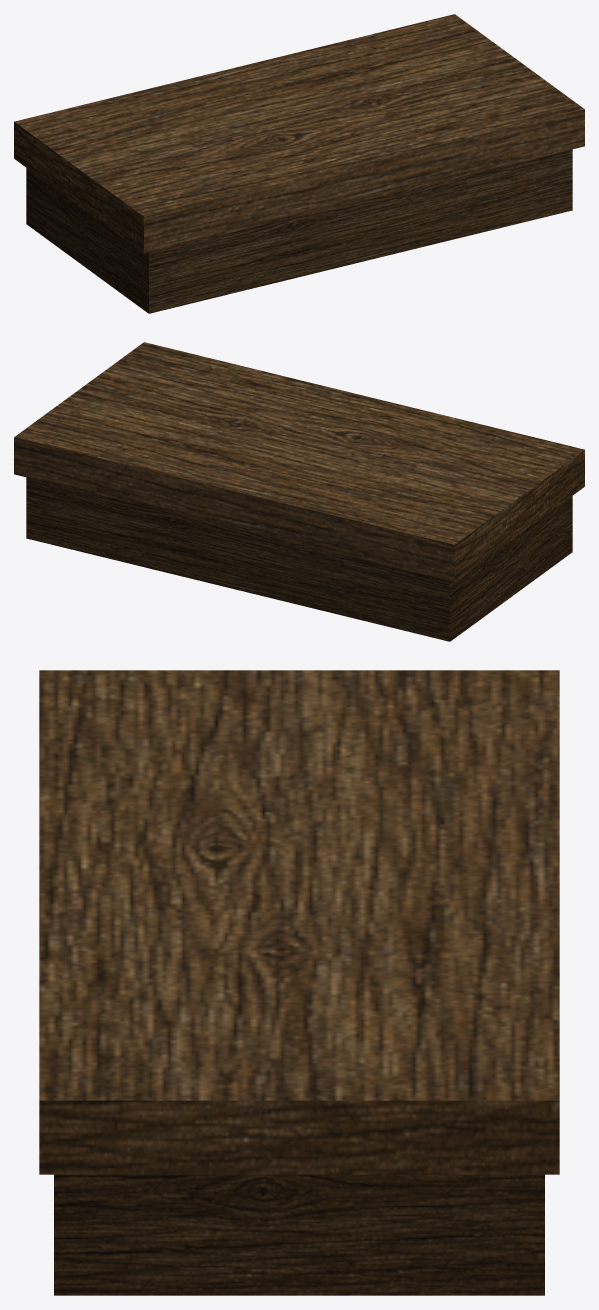
The model's file is mm9_deco_box02.glb.
3 views of the same model, one above another, from view 1: azimuth 30°, elevation 25°; view 2: azimuth 150°, elevation 25°; view 3: azimuth 270°, elevation 25° (orthographic). The views are drawn at different scales.
Parts seen in each view (by area): view 1: Box02; view 2: Box02; view 3: Box02.
Part boxes in pixels (left/top/right/bottom): Box02: left=14, top=14, right=584, bottom=313; Box02: left=14, top=342, right=584, bottom=641; Box02: left=39, top=670, right=559, bottom=1295.
Bounding box in the file's own units: 0.6764 × 0.1491 × 0.3458.
1 material, 1 textured.
